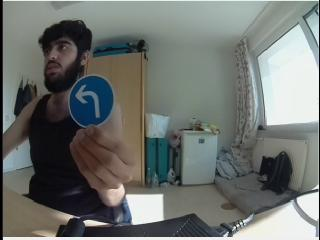left: (68, 75, 112, 127)
